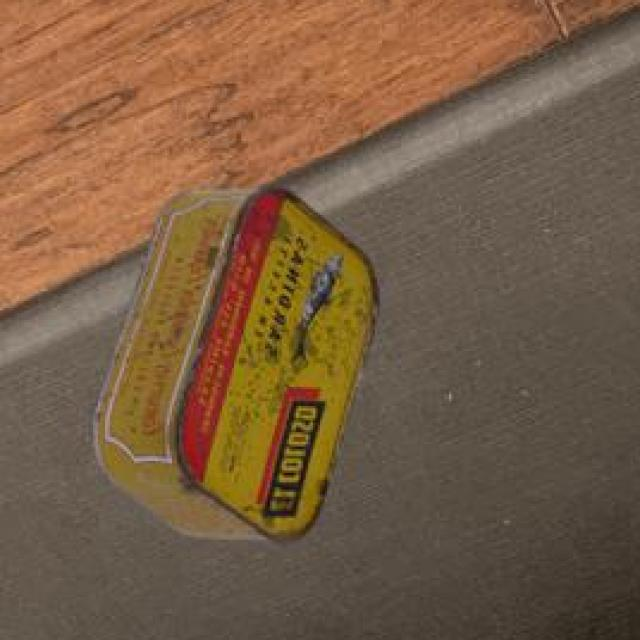logam: (87, 190, 376, 548)
